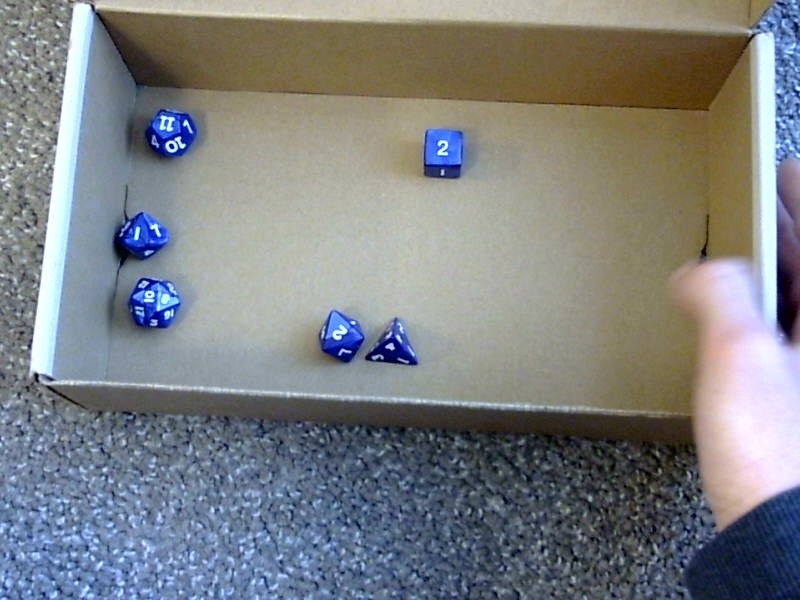d10 1: (113, 207, 169, 261)
d12 11: (139, 102, 199, 162)
d20 10: (121, 274, 184, 331)
d4 4: (368, 309, 419, 373)
d6 2: (415, 123, 469, 183)
d8 2: (312, 301, 364, 365)
